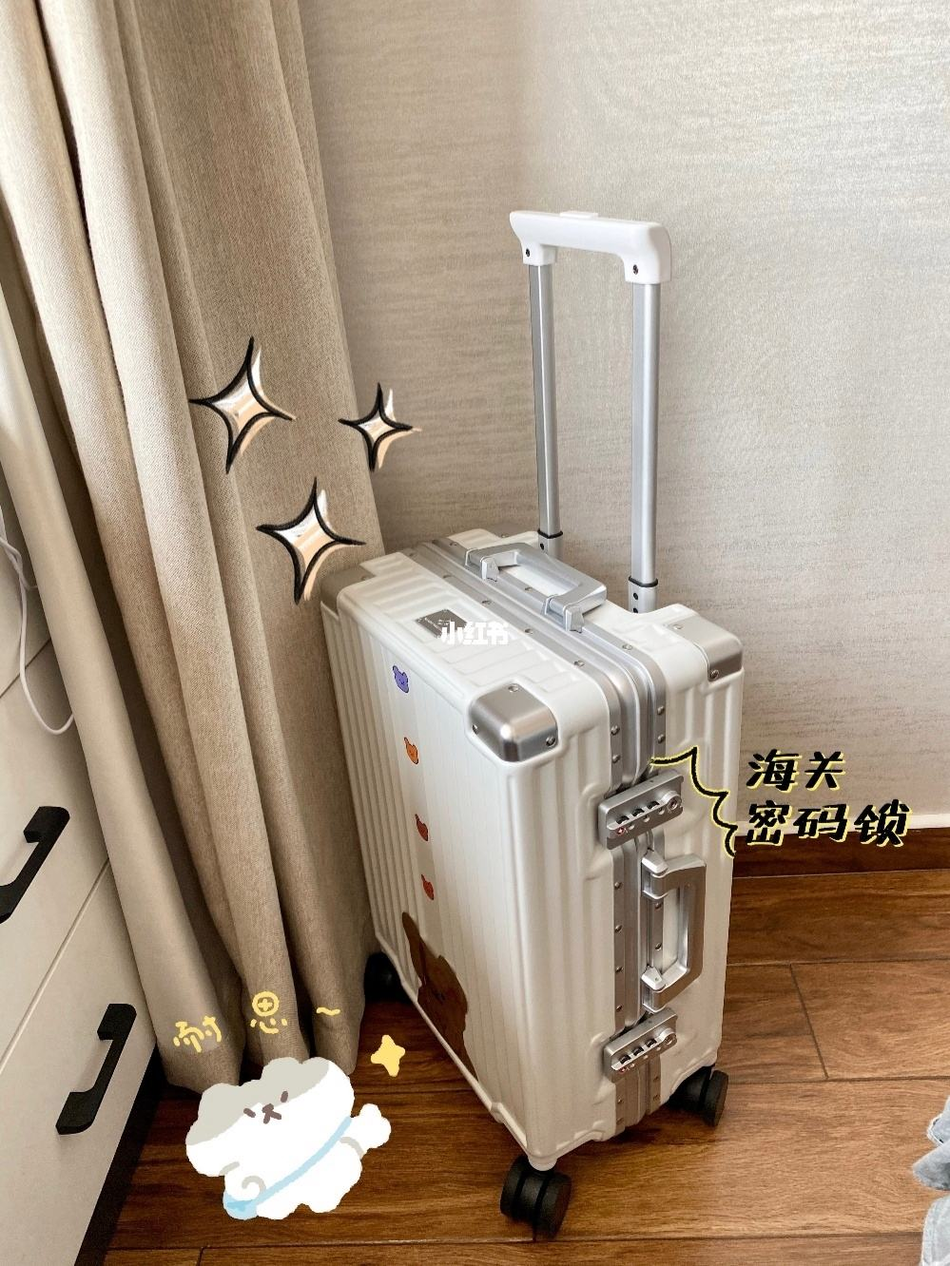box: (318, 527, 745, 1164)
handle: (466, 540, 609, 634), (641, 849, 707, 1010)
lock: (595, 769, 683, 852), (603, 1007, 678, 1083)
wheel: (498, 1154, 571, 1239), (669, 1067, 727, 1126)
